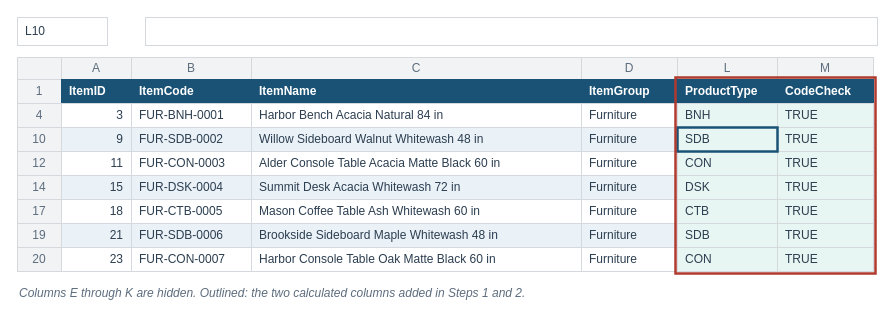
The diagram is 895 pixels wide and 319 high, and some of its shapes have lost their labels. The shapes that lost their labels are listed below. From the top down, each one's box as (x1, y1, x2, y2) in pixels, then its label:
(110, 16, 142, 46): fx
(144, 16, 878, 46): =MID([@ItemCode],5,3)
